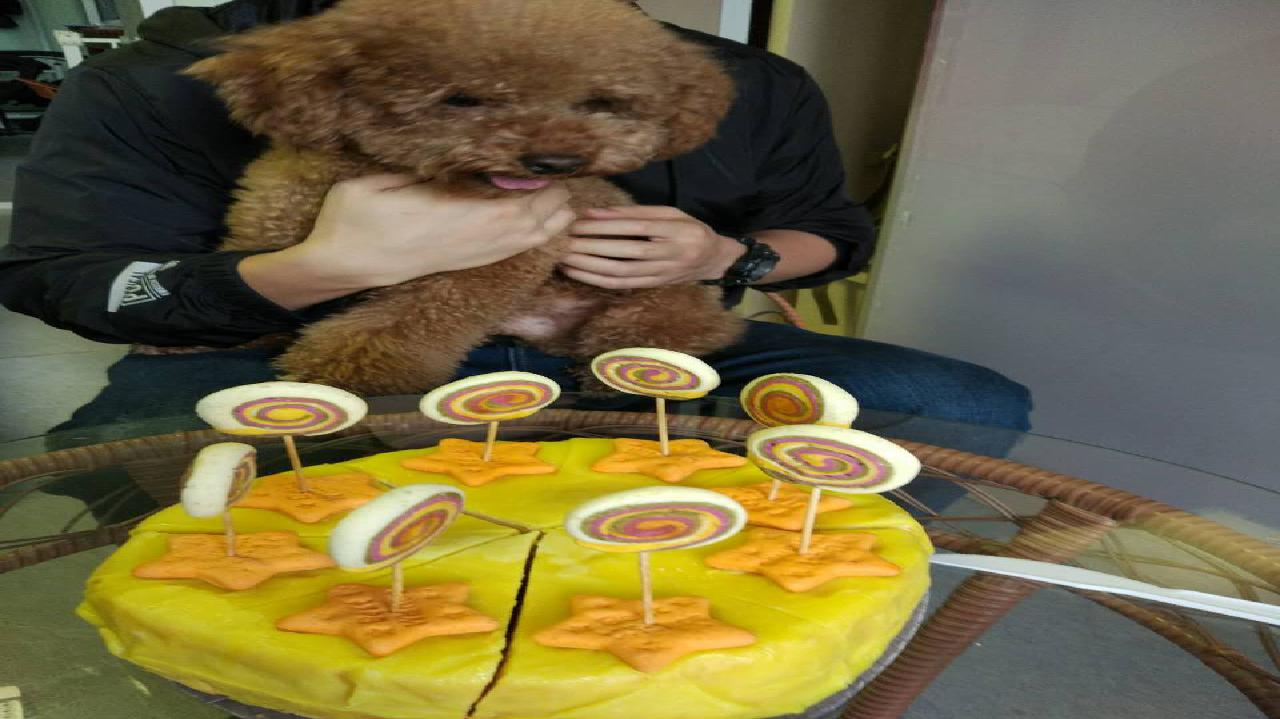zhuangzhuang: (208, 9, 737, 378)
